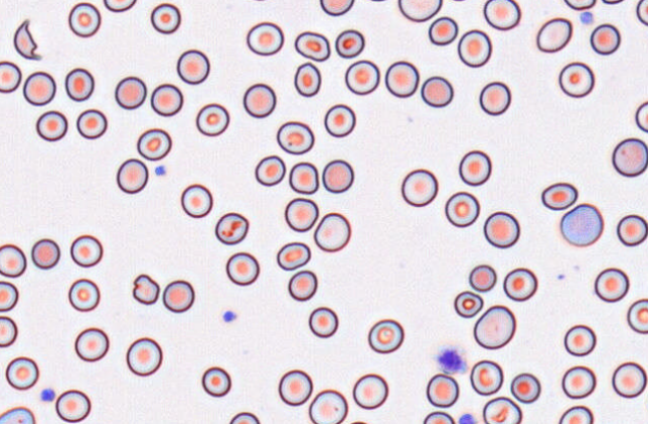PLT: (435, 345, 466, 374), (579, 10, 600, 25), (456, 412, 479, 424), (39, 387, 56, 403), (154, 163, 170, 178), (223, 309, 239, 323)
RBC: (473, 304, 516, 349), (559, 203, 603, 246), (313, 212, 351, 252), (611, 137, 648, 177), (125, 337, 162, 376), (401, 168, 438, 206), (308, 389, 348, 424), (611, 361, 647, 398), (483, 211, 519, 248), (352, 373, 388, 409), (558, 61, 594, 97), (384, 60, 419, 97), (367, 318, 404, 353), (457, 29, 491, 67), (276, 120, 314, 154), (246, 21, 284, 55), (444, 191, 479, 227), (344, 59, 379, 95), (536, 17, 572, 52), (278, 369, 312, 406), (594, 267, 629, 302), (74, 327, 109, 362), (469, 359, 503, 395), (242, 82, 276, 118), (458, 149, 491, 186), (284, 197, 318, 232), (561, 365, 596, 399), (502, 267, 537, 301), (55, 389, 91, 422), (22, 71, 56, 105), (5, 356, 39, 390), (225, 251, 259, 285), (195, 102, 229, 136), (176, 49, 209, 84), (68, 2, 101, 37), (116, 158, 148, 193), (136, 128, 171, 160), (180, 183, 212, 218), (294, 30, 330, 61), (483, 0, 520, 30), (482, 396, 521, 424), (150, 83, 183, 116), (70, 234, 103, 267), (426, 373, 458, 407), (321, 159, 353, 193), (114, 75, 146, 109), (214, 212, 248, 244), (563, 324, 596, 356), (420, 75, 453, 107), (162, 279, 194, 312), (68, 278, 100, 311), (324, 103, 355, 137), (479, 81, 510, 115), (616, 214, 648, 246), (288, 161, 319, 194), (64, 67, 94, 101), (541, 182, 577, 210), (254, 154, 285, 186), (35, 110, 67, 141), (276, 241, 310, 270), (293, 62, 321, 97), (398, 0, 442, 22), (150, 2, 181, 33), (76, 108, 107, 139), (287, 269, 317, 301), (308, 306, 338, 338), (590, 23, 620, 55), (510, 372, 540, 403), (201, 366, 231, 397), (31, 238, 60, 269), (0, 243, 26, 277), (428, 16, 458, 45), (335, 29, 364, 58), (453, 290, 483, 318), (626, 298, 648, 334), (468, 264, 496, 292), (0, 60, 21, 93), (558, 405, 593, 424), (0, 406, 35, 424), (319, 0, 354, 16), (0, 280, 18, 311), (0, 315, 17, 347), (635, 100, 648, 132), (422, 410, 454, 423), (103, 0, 136, 12), (228, 411, 260, 423), (563, 0, 596, 10), (636, 0, 648, 26), (346, 420, 372, 424), (601, 0, 625, 4), (359, 0, 391, 2), (242, 0, 275, 1), (446, 0, 472, 1)
Schistocyte: (11, 19, 42, 62), (133, 272, 162, 306)
